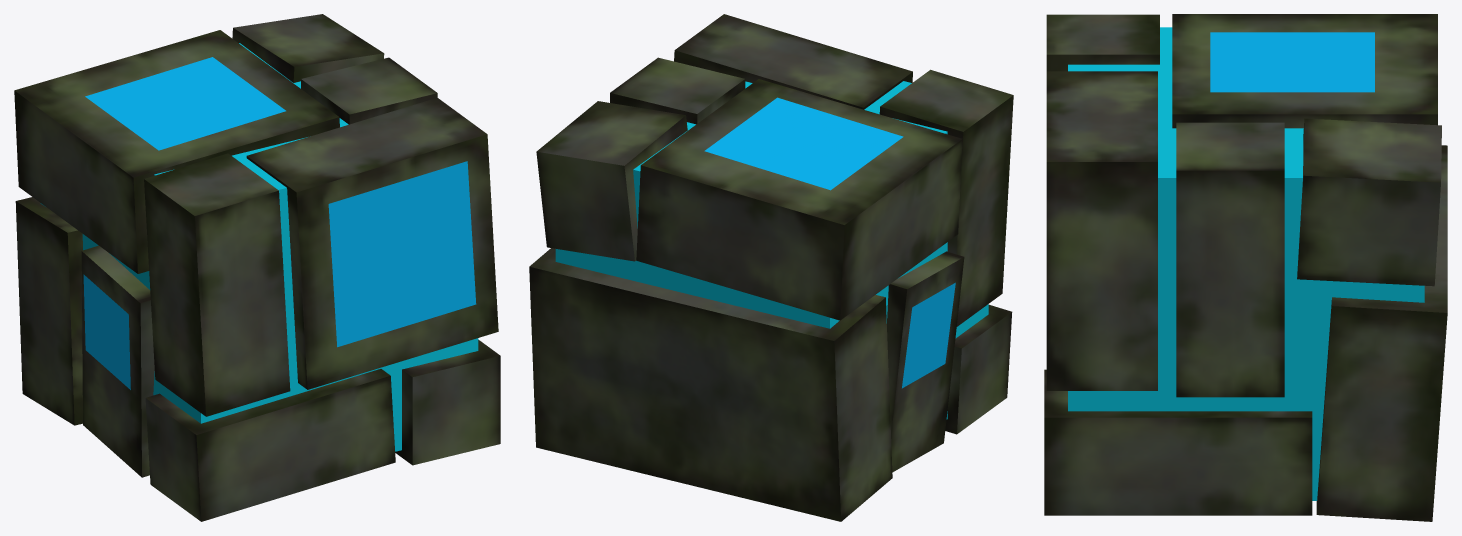
File: cube-runes.fbx
The picture shows the model from 3 angles, left to right: view 1: azimuth 30°, elevation 25°; view 2: azimuth 150°, elevation 25°; view 3: azimuth 270°, elevation 25°; orthographic projection. The views are drawn at different scales.
Visible parts, largest first — view 1: magic_cube5; view 2: magic_cube5; view 3: magic_cube5.
Boxes of the visible parts, x1=… form: magic_cube5: x1=14, y1=14, x2=500, y2=521; magic_cube5: x1=529, y1=14, x2=1013, y2=521; magic_cube5: x1=1044, y1=14, x2=1447, y2=521.
Size of the model in its own units: 113 by 110 by 114.
